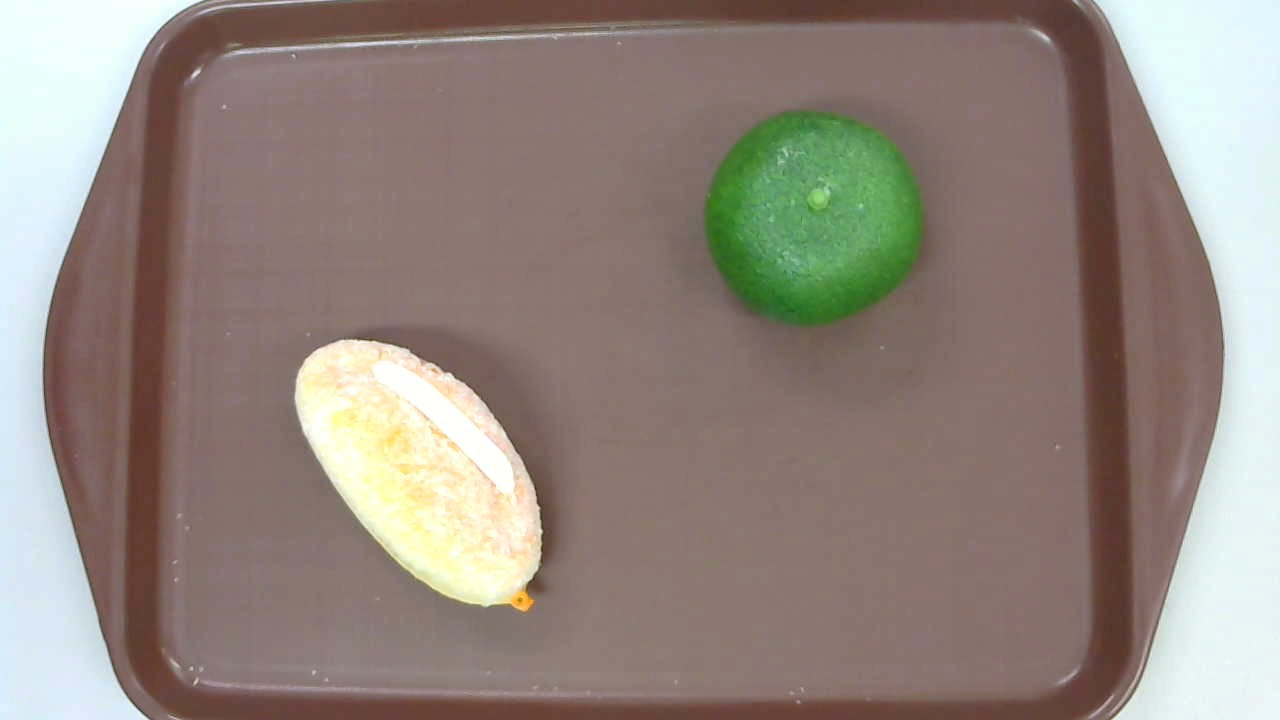coconut: (293, 337, 545, 612)
green orange: (703, 109, 922, 325)
